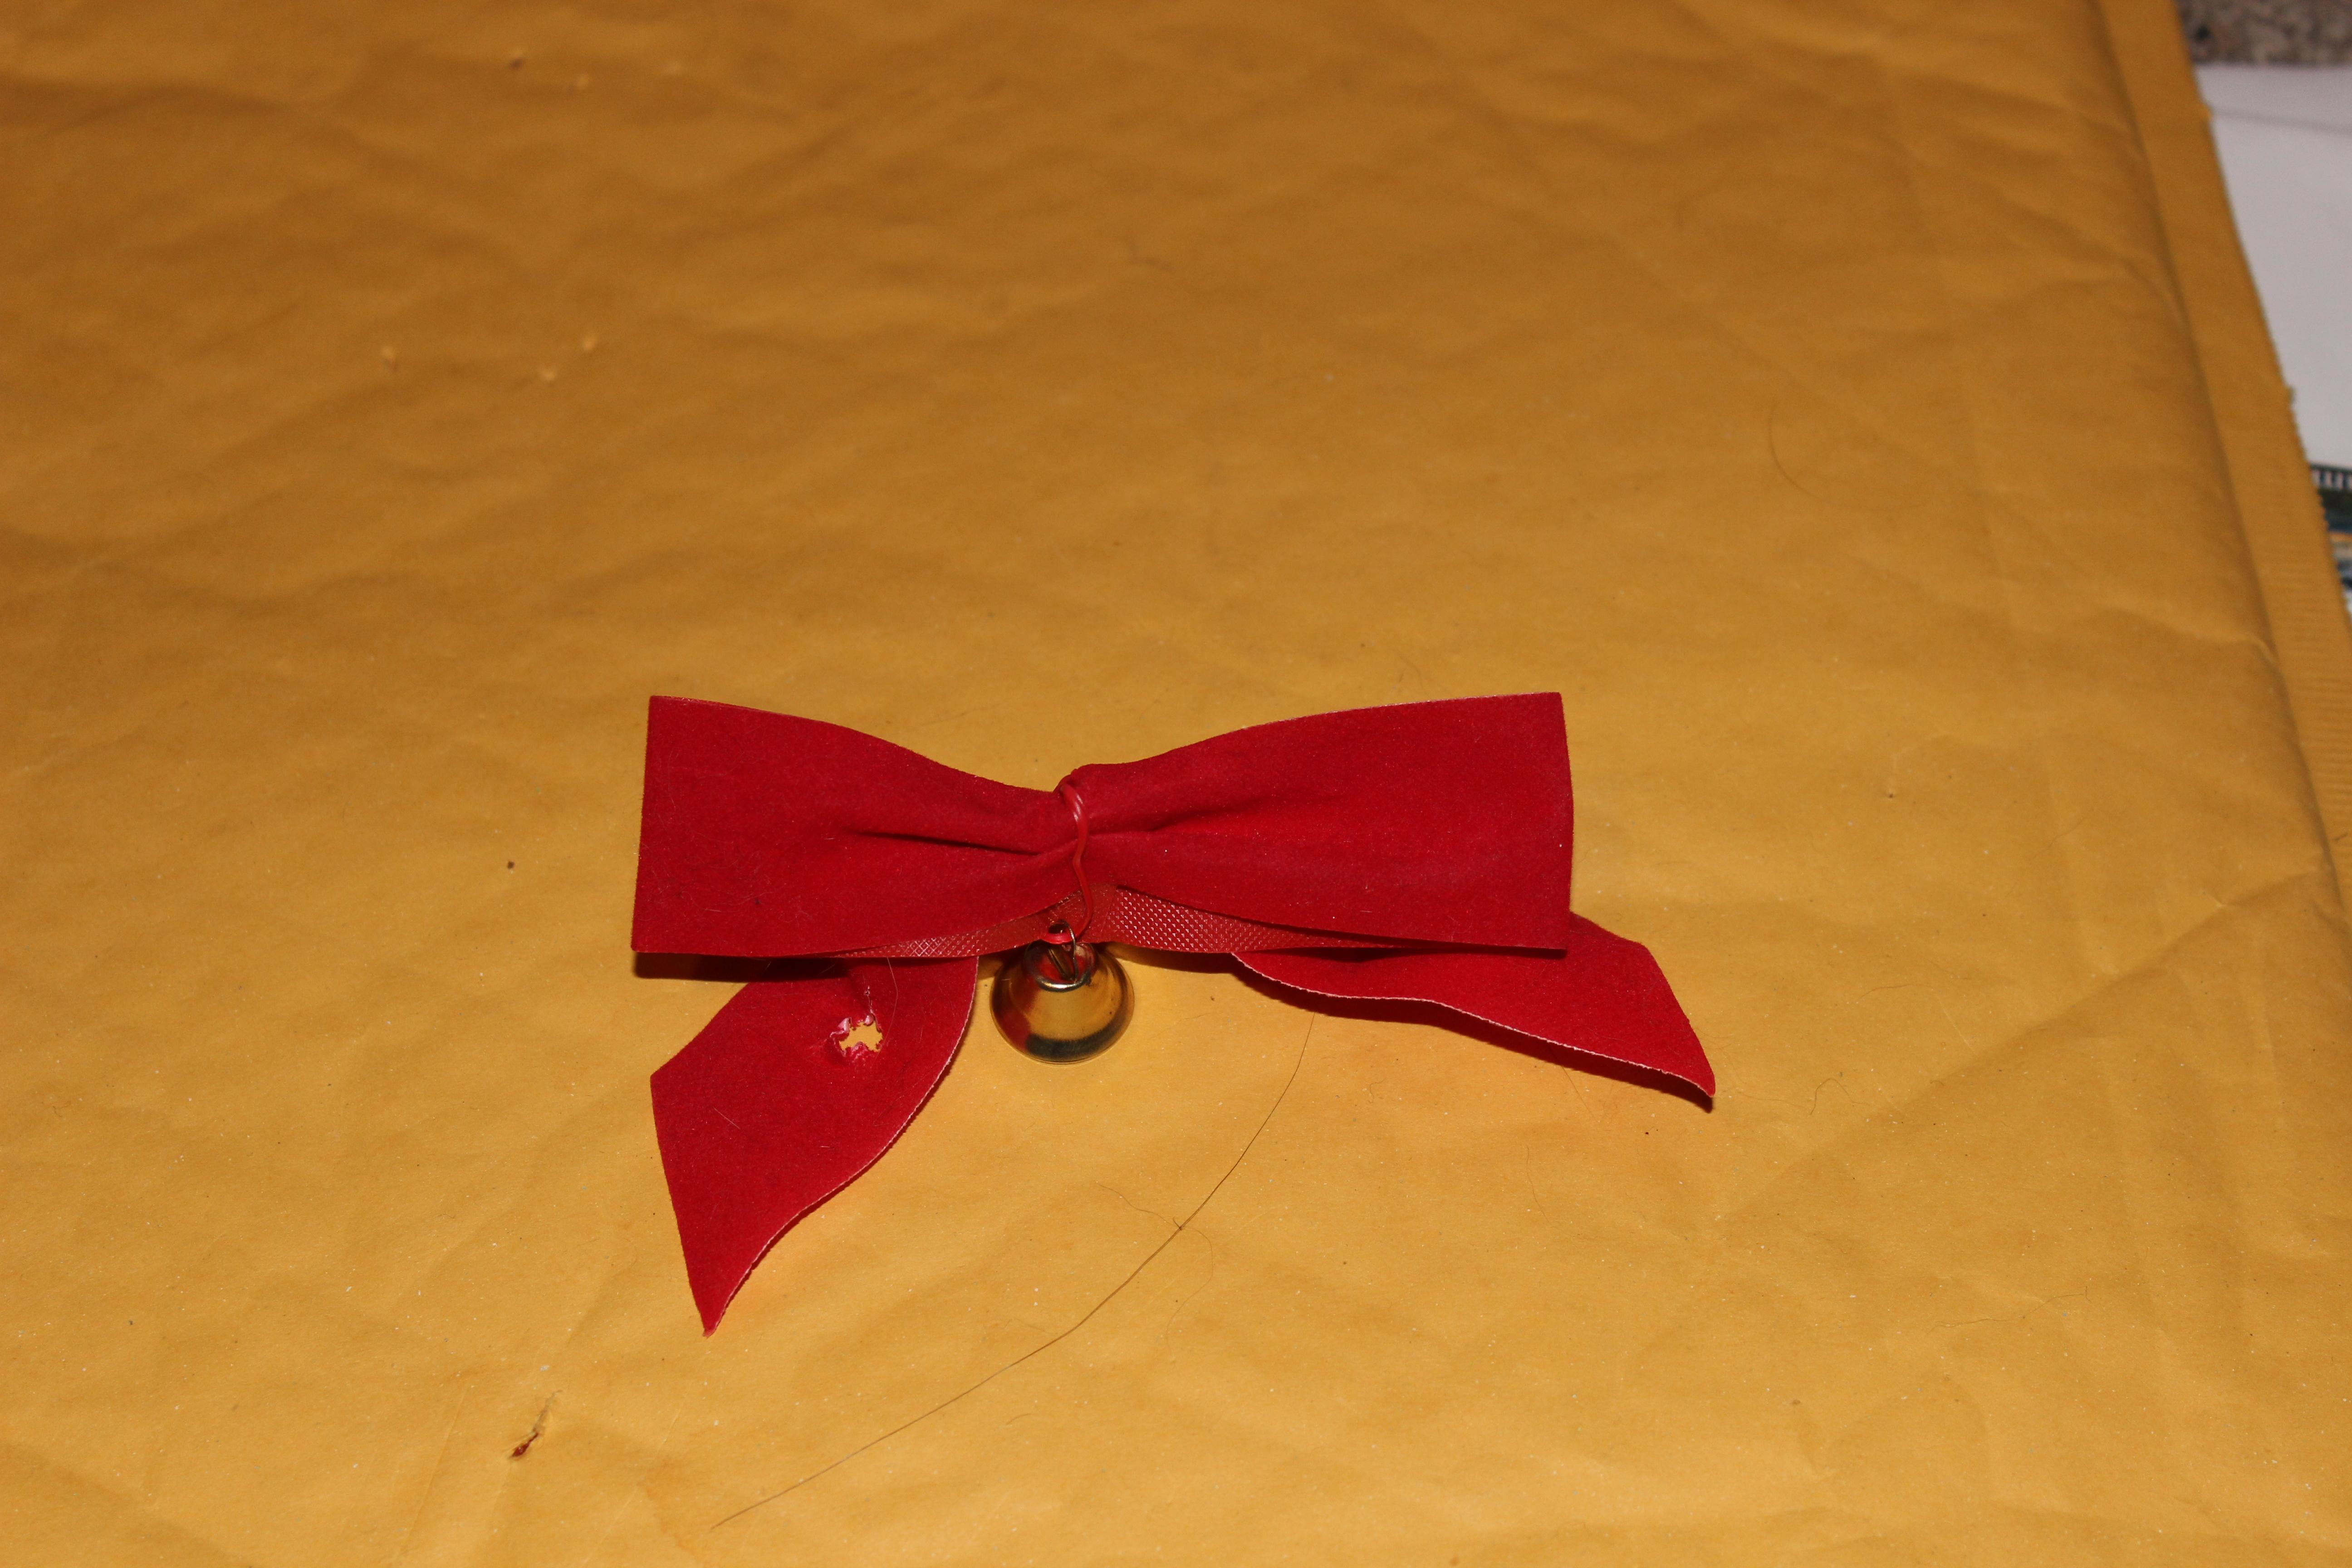redBow: (586, 651, 1757, 1367)
